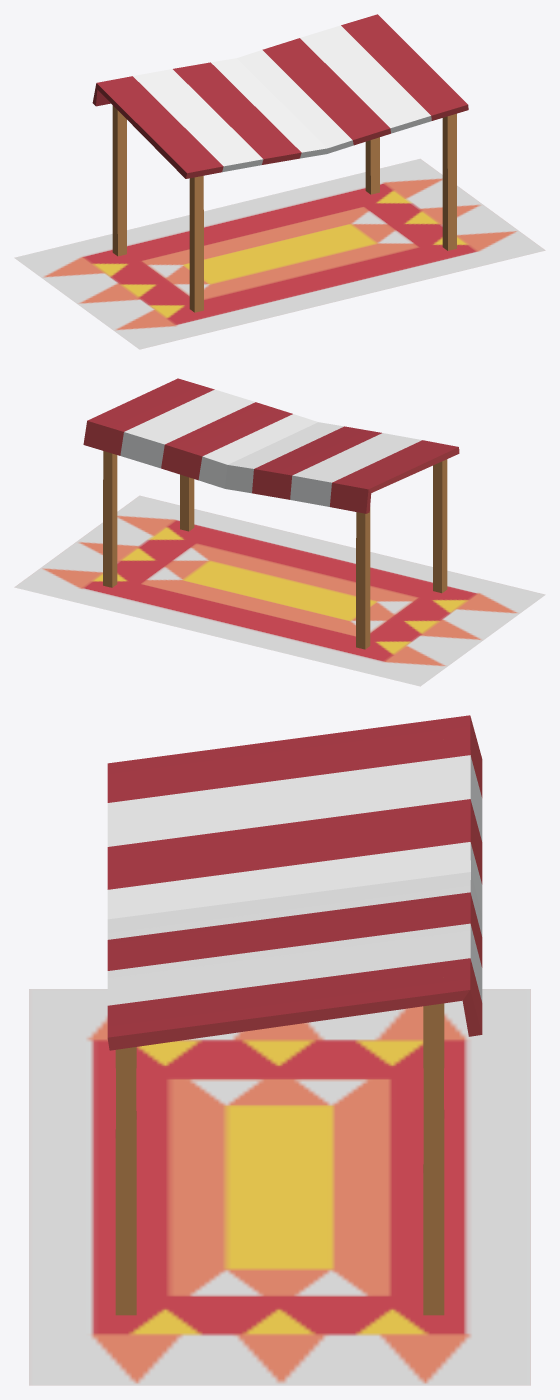
File: Tent.fbx
The picture shows the model from 3 angles, top to bottom: view 1: azimuth 30°, elevation 25°; view 2: azimuth 150°, elevation 25°; view 3: azimuth 270°, elevation 25°; orthographic projection. The views are drawn at different scales.
Visible parts, largest first — view 1: Plane.009, Plane.008, Cube.128, Cube.129, Cube.130, Cube.127; view 2: Plane.009, Plane.008, Cube.128, Cube.127, Cube.129, Cube.130; view 3: Plane.009, Plane.008, Cube.127, Cube.130.
Boxes of the visible parts, box(x1,y1,x2,y2) form: Plane.009: box(14, 158, 545, 349); Plane.008: box(92, 14, 468, 178); Cube.128: box(112, 105, 126, 256); Cube.129: box(189, 176, 203, 312); Cube.130: box(442, 113, 456, 250); Cube.127: box(365, 137, 379, 194); Plane.009: box(14, 495, 545, 686); Plane.008: box(83, 378, 459, 513); Cube.128: box(356, 507, 370, 649); Cube.127: box(103, 451, 117, 587); Cube.129: box(433, 459, 447, 593); Cube.130: box(180, 474, 194, 531); Plane.009: box(29, 989, 530, 1385); Plane.008: box(107, 715, 482, 1050); Cube.127: box(423, 1003, 444, 1315); Cube.130: box(115, 1047, 136, 1315).
Size of the model in its own units: 377 by 150 by 202.
